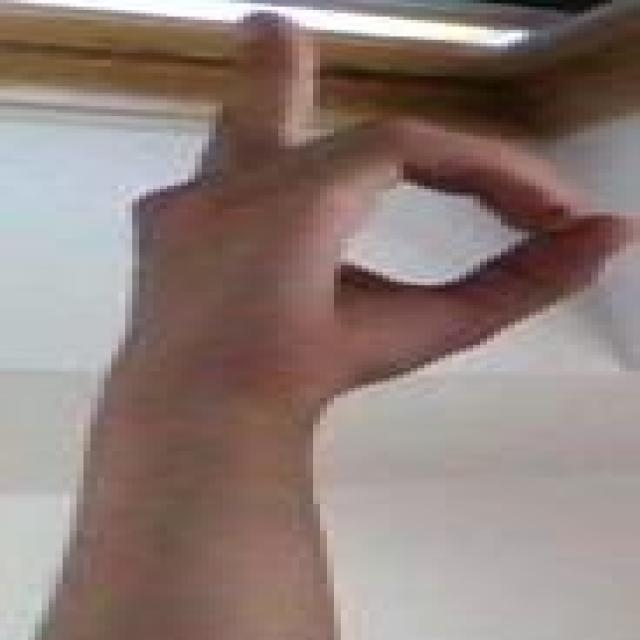D1: (20, 3, 640, 419)
